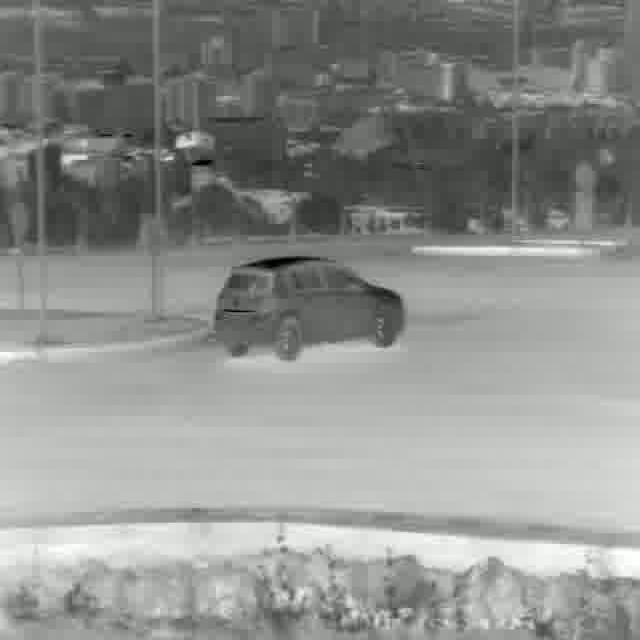Car: (214, 255, 407, 361)
